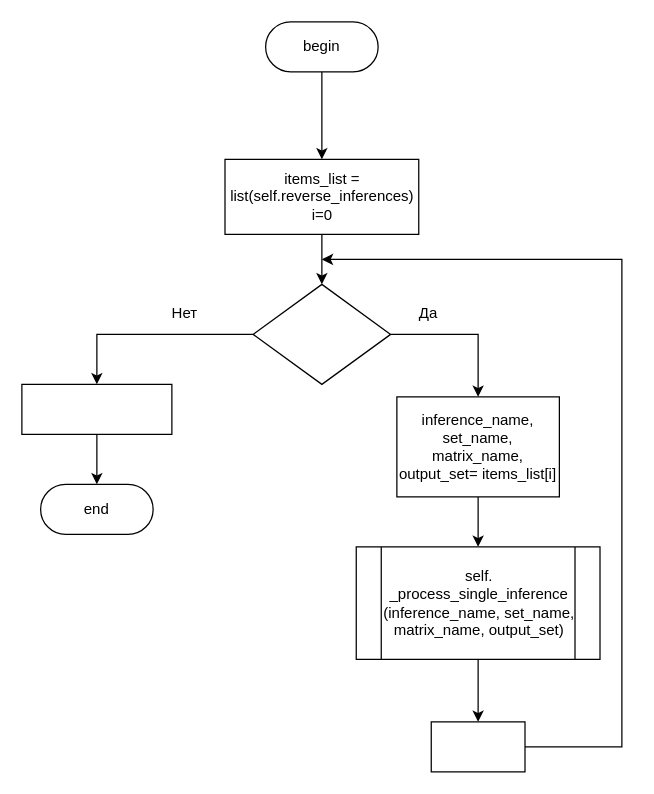
This 654x794 diagram has some shape labels left out. The shapes that lost their labels are listed below. From the top down, each one's box as (x1, y1, x2, y2) in pixels, then its label:
(252, 283, 391, 384): i<len(items_list)
(21, 383, 172, 434): return
(430, 721, 525, 772): i++
